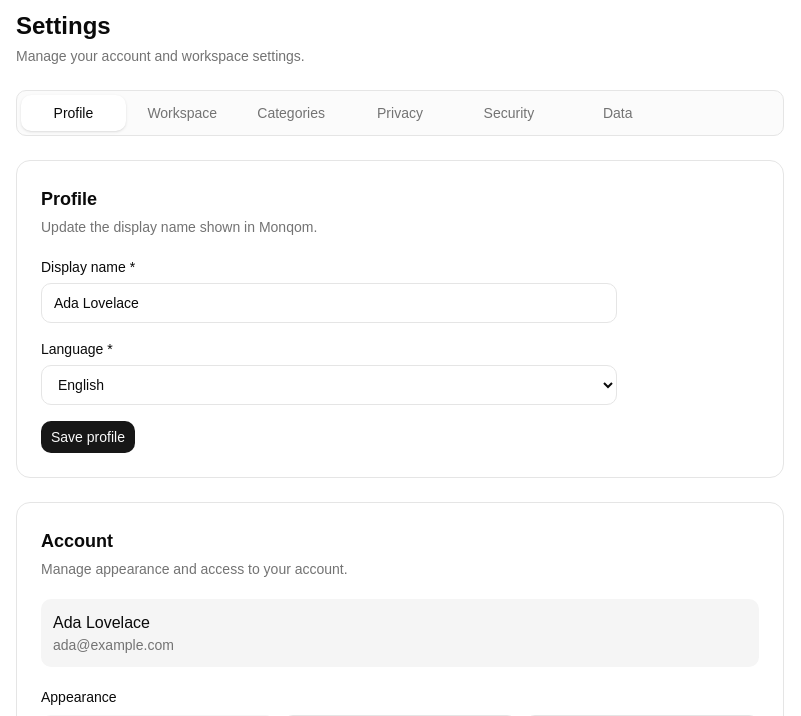
Test: SettingsPage › validates display name before saving
The image size is (801, 716).
Clear the field labelled "Display name": (329, 303) left=41, top=283, right=617, bottom=323
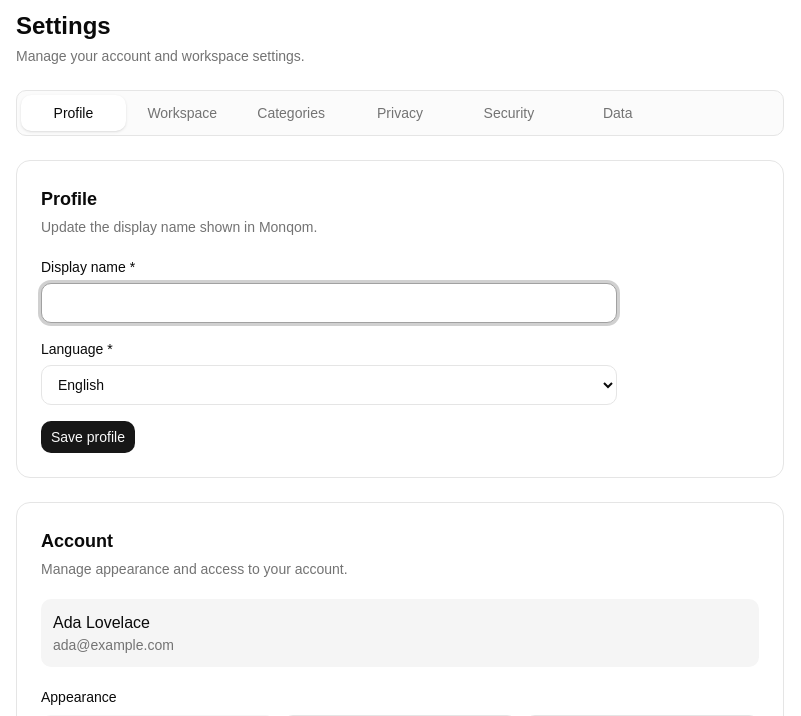
Click the button "Save profile": (88, 437) left=41, top=421, right=135, bottom=453
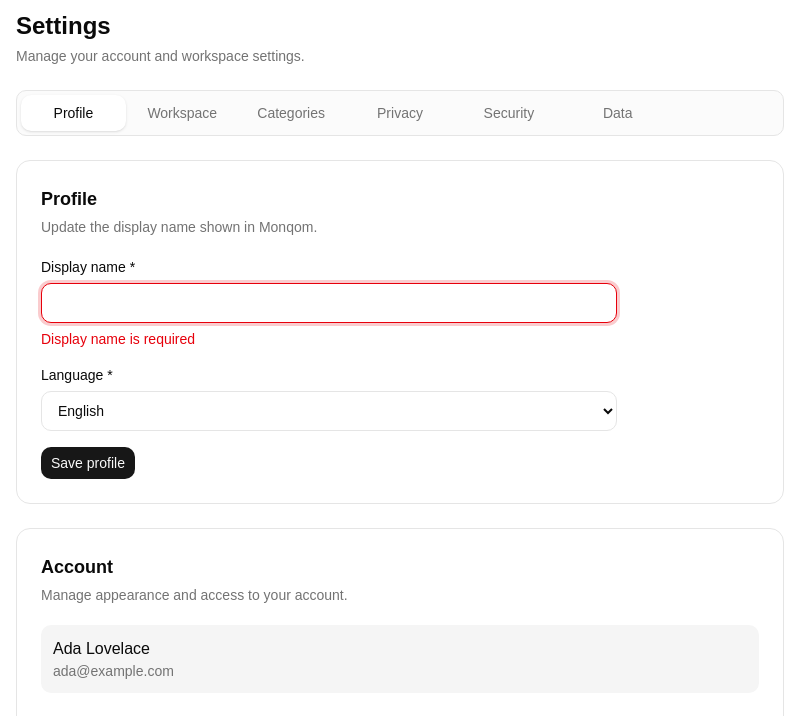
Expected: the message reads "Display name is required", left=41, top=331, right=195, bottom=347
